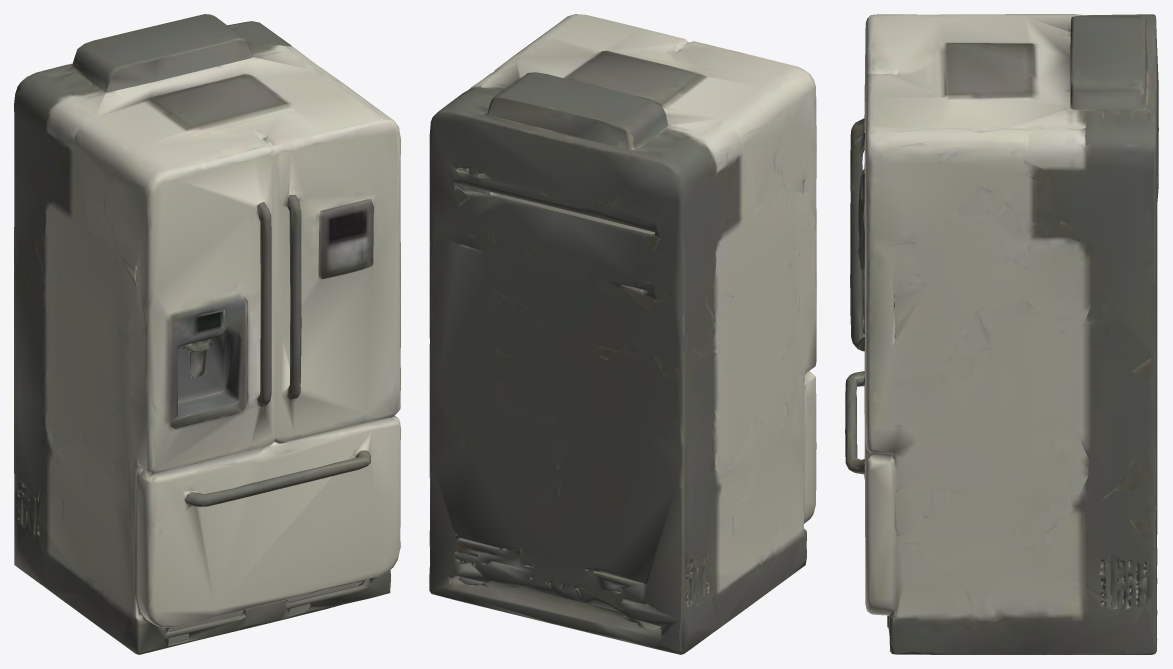
Rendered from fridge.glb.
3 views of the same model, side by side, from view 1: azimuth 30°, elevation 25°; view 2: azimuth 150°, elevation 25°; view 3: azimuth 270°, elevation 25° (orthographic). The views are drawn at different scales.
Parts seen in each view (by area): view 1: geometry_0; view 2: geometry_0; view 3: geometry_0.
Part boxes in pixels (x1,y1,x2,y2): geometry_0: (14,14,400,654); geometry_0: (429,14,816,654); geometry_0: (845,14,1158,654).
Bounding box in the file's own units: 0.5258 × 1 × 0.5256.
1 material, 1 textured.
